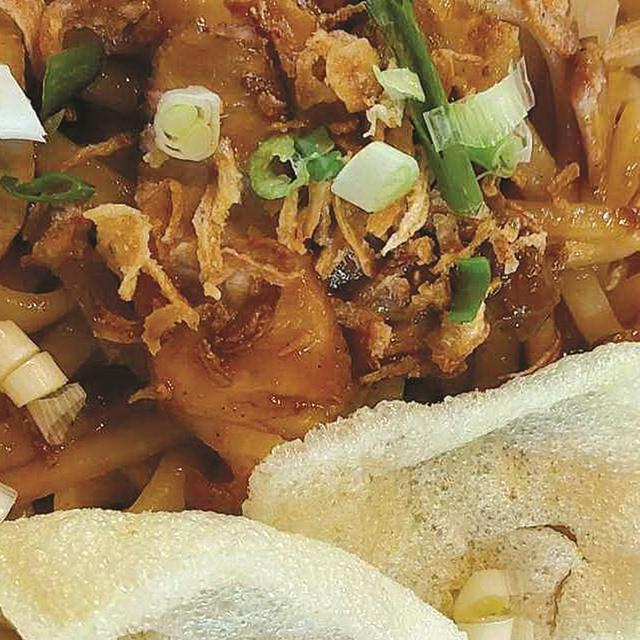banh da: (216, 333, 640, 640), (0, 500, 480, 640)
mi: (395, 56, 640, 433), (0, 120, 216, 524)
thit heo: (116, 11, 366, 528), (23, 0, 325, 78)
